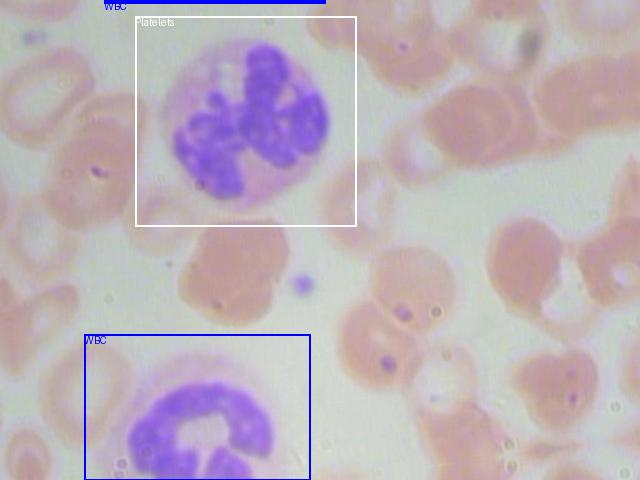Platelets: (135, 16, 356, 226)
WBC: (84, 334, 310, 480), (104, 0, 325, 3)
